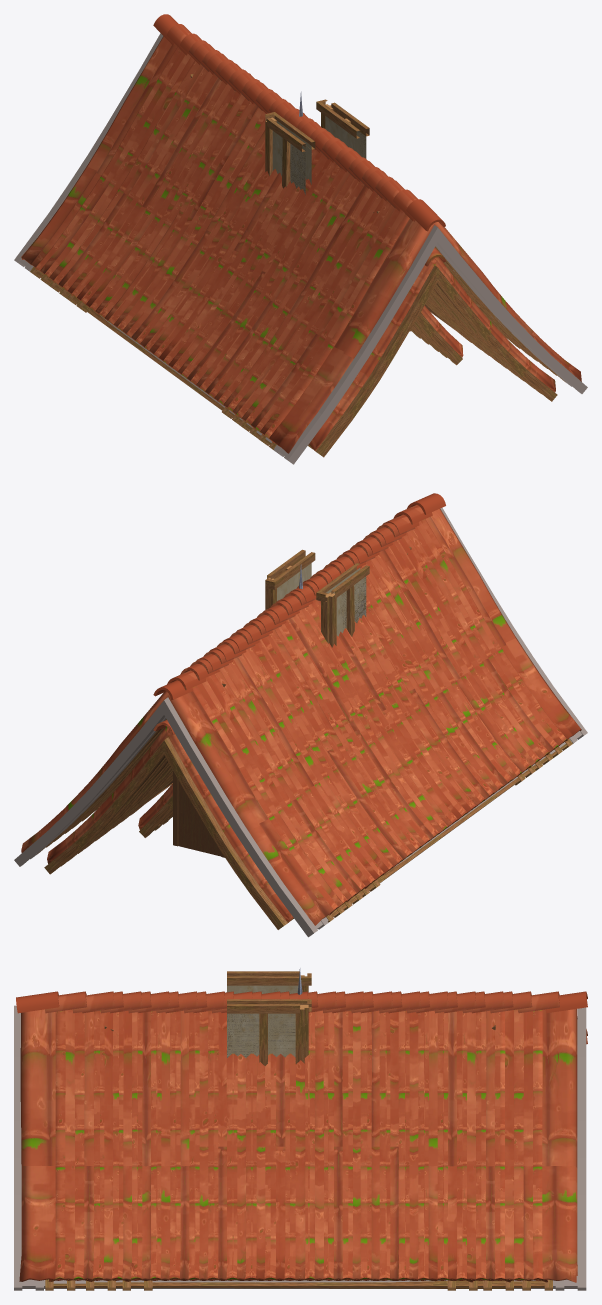
File: village.glb
The picture shows the model from 3 angles, top to bottom: view 1: azimuth 30°, elevation 25°; view 2: azimuth 150°, elevation 25°; view 3: azimuth 270°, elevation 25°; orthographic projection. The views are drawn at different scales.
Parts seen in each view (by area): view 1: Roof_RoundTiles_8x14, Roof_RoundTiles_8x12, Roof_RoundTiles_8x10, Roof_RoundTiles_6x14, Roof_RoundTiles_8x8, Overhang_Side_Plaster_Long_L, Overhang_Side_Plaster_Long_R, Roof_RoundTiles_4x8, Overhang_Side_Plaster_Short_L; view 2: Roof_RoundTiles_8x14, Roof_RoundTiles_8x10, Roof_RoundTiles_8x12, Roof_RoundTiles_8x8, Roof_RoundTiles_6x14, Stair_Interior_SolidExtended, Overhang_Side_Plaster_Long_L, Overhang_Side_Plaster_Long_R, Overhang_Side_Plaster_Short_L, Roof_RoundTiles_4x8; view 3: Roof_RoundTiles_8x14, Roof_RoundTiles_8x12, Roof_RoundTiles_8x10, Roof_RoundTiles_8x8, Overhang_Side_Plaster_Long_R, Overhang_Side_Plaster_Long_L, Overhang_Side_Plaster_Short_R, Overhang_Side_UnevenBrick_Long_R.
Part boxes in pixels (bbox=[...]): Roof_RoundTiles_8x14: bbox=[14, 14, 587, 464]; Roof_RoundTiles_8x12: bbox=[30, 24, 565, 449]; Roof_RoundTiles_8x10: bbox=[48, 40, 547, 438]; Roof_RoundTiles_6x14: bbox=[308, 248, 557, 457]; Roof_RoundTiles_8x8: bbox=[66, 50, 529, 424]; Overhang_Side_Plaster_Long_L: bbox=[265, 112, 315, 194]; Overhang_Side_Plaster_Long_R: bbox=[316, 100, 369, 158]; Roof_RoundTiles_4x8: bbox=[413, 305, 463, 365]; Overhang_Side_Plaster_Short_L: bbox=[265, 114, 293, 188]; Roof_RoundTiles_8x14: bbox=[14, 493, 587, 937]; Roof_RoundTiles_8x10: bbox=[54, 523, 553, 910]; Roof_RoundTiles_8x12: bbox=[36, 505, 572, 922]; Roof_RoundTiles_8x8: bbox=[72, 533, 535, 896]; Roof_RoundTiles_6x14: bbox=[44, 720, 293, 929]; Stair_Interior_SolidExtended: bbox=[173, 771, 224, 857]; Overhang_Side_Plaster_Long_L: bbox=[316, 563, 369, 647]; Overhang_Side_Plaster_Long_R: bbox=[265, 549, 315, 609]; Overhang_Side_Plaster_Short_L: bbox=[317, 576, 354, 645]; Roof_RoundTiles_4x8: bbox=[138, 783, 172, 837]; Roof_RoundTiles_8x14: bbox=[14, 991, 587, 1290]; Roof_RoundTiles_8x12: bbox=[45, 991, 559, 1290]; Roof_RoundTiles_8x10: bbox=[82, 991, 513, 1290]; Roof_RoundTiles_8x8: bbox=[122, 991, 485, 1290]; Overhang_Side_Plaster_Long_R: bbox=[227, 999, 311, 1065]; Overhang_Side_Plaster_Long_L: bbox=[227, 971, 311, 993]; Overhang_Side_Plaster_Short_R: bbox=[259, 999, 311, 1064]; Overhang_Side_UnevenBrick_Long_R: bbox=[227, 1014, 295, 1057].
Bounding box in the file's own units: 9.95 × 8.91 × 15.71.
12 materials, 11 textured.
